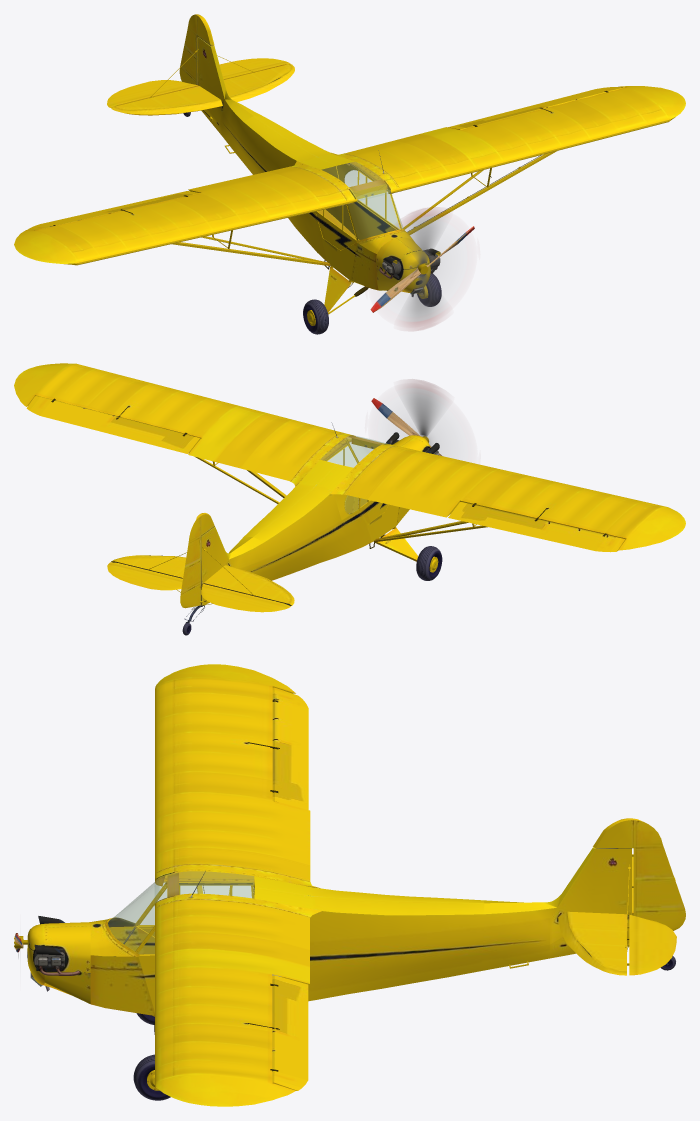
File: J3Cub.glb
3 views of the same model, one above another, from view 1: azimuth 30°, elevation 25°; view 2: azimuth 150°, elevation 25°; view 3: azimuth 270°, elevation 25° (orthographic). The views are drawn at different scales.
Parts seen in each view (by area): view 1: body, wing_left_inner, wing_right_outer, wing_left_outer, wing_right_inner, fuselage_rear, propeller_blades, fin, elevator, stab, gear_right, rudder (+3 smaller); view 2: wing_left_inner, body, wing_right_inner, wing_right_outer, wing_left_outer, fuselage_rear, aileron_left, aileron_right, fin, elevator, propeller_blades, rudder (+2 smaller); view 3: body, fuselage_rear, wing_right_inner, wing_left_outer, wing_left_inner, wing_right_outer, fin, rudder, aileron_right, aileron_left, elevator, stab (+1 smaller).
Boxes of the visible parts, x1,y1,x2,y2 form: body: [204, 150, 509, 296]; wing_left_inner: [339, 123, 529, 234]; wing_right_outer: [14, 199, 216, 265]; wing_left_outer: [487, 86, 685, 173]; wing_right_inner: [175, 166, 351, 262]; fuselage_rear: [201, 97, 329, 220]; propeller_blades: [370, 207, 474, 330]; fin: [115, 37, 288, 125]; elevator: [107, 58, 290, 107]; stab: [111, 49, 294, 115]; gear_right: [303, 265, 368, 334]; rudder: [179, 14, 214, 84]; wing_left_inner: [175, 399, 350, 503]; body: [197, 422, 484, 559]; wing_right_inner: [345, 445, 527, 537]; wing_right_outer: [487, 475, 685, 550]; wing_left_outer: [14, 363, 214, 431]; fuselage_rear: [184, 490, 330, 623]; aileron_left: [26, 395, 200, 453]; aileron_right: [448, 502, 625, 552]; fin: [115, 526, 288, 603]; elevator: [107, 562, 290, 612]; propeller_blades: [371, 379, 441, 455]; rudder: [180, 513, 214, 608]; body: [27, 863, 330, 1034]; fuselage_rear: [330, 890, 668, 997]; wing_right_inner: [155, 774, 310, 893]; wing_left_outer: [155, 984, 295, 1106]; wing_left_inner: [155, 896, 311, 993]; wing_right_outer: [155, 664, 295, 784]; fin: [551, 847, 633, 971]; rudder: [593, 818, 685, 930]; aileron_right: [272, 687, 308, 809]; aileron_left: [272, 975, 308, 1090]; elevator: [629, 854, 676, 975]; stab: [560, 864, 629, 975].
Size of the model in its own units: 10.65 by 2.73 by 6.86.
11 materials, 8 textured.
